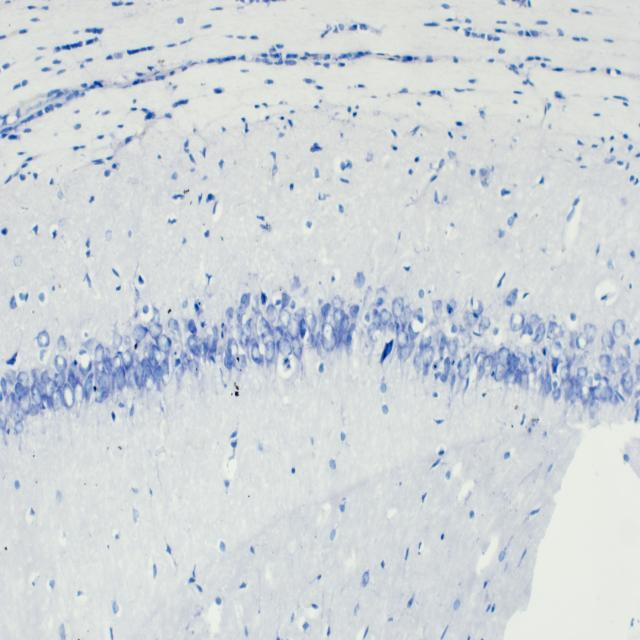neuron: (258, 317, 276, 349), (321, 322, 337, 352), (359, 327, 374, 358), (336, 314, 350, 347), (590, 376, 609, 399), (187, 333, 203, 358), (550, 336, 566, 360), (368, 319, 386, 340), (605, 368, 619, 395), (98, 367, 111, 396), (68, 360, 81, 388), (238, 320, 250, 350), (413, 350, 428, 373), (30, 385, 44, 409), (63, 382, 75, 410), (171, 340, 183, 368), (317, 336, 331, 360), (18, 390, 31, 415), (432, 300, 444, 327), (10, 400, 24, 423), (286, 318, 300, 341), (372, 287, 388, 307), (277, 337, 292, 358), (152, 365, 164, 391), (391, 295, 404, 319), (458, 354, 471, 378), (84, 371, 94, 402), (547, 321, 564, 339), (156, 334, 171, 354), (456, 328, 471, 348), (524, 366, 537, 389), (144, 364, 155, 391), (510, 311, 524, 332), (251, 342, 263, 366), (621, 369, 633, 393), (125, 366, 138, 388), (497, 346, 512, 365), (133, 323, 147, 343), (422, 346, 436, 366), (506, 352, 520, 372), (601, 329, 615, 349), (398, 343, 412, 362), (135, 362, 145, 388), (440, 357, 450, 383), (569, 383, 582, 403), (616, 344, 632, 360), (44, 377, 56, 398), (54, 355, 68, 373), (227, 336, 239, 357), (305, 313, 317, 334), (576, 367, 588, 388), (599, 354, 611, 375), (342, 329, 352, 354), (399, 307, 412, 326), (478, 316, 491, 335), (494, 363, 507, 382), (562, 379, 573, 401), (84, 336, 100, 351), (109, 355, 121, 375), (204, 327, 214, 351), (482, 356, 494, 376), (534, 322, 546, 342), (187, 358, 200, 376), (73, 382, 84, 403), (52, 388, 62, 411), (116, 368, 126, 391), (264, 340, 274, 363), (292, 337, 302, 360), (28, 398, 40, 417), (266, 303, 278, 322), (396, 329, 408, 348), (506, 288, 518, 307), (584, 323, 596, 342), (379, 309, 392, 326), (4, 392, 14, 414), (122, 350, 133, 370), (580, 384, 591, 404), (514, 348, 526, 366), (613, 319, 625, 337), (95, 387, 109, 402), (149, 324, 163, 339), (211, 325, 218, 355), (279, 309, 290, 328), (36, 382, 49, 398), (17, 371, 29, 388), (37, 330, 49, 347), (332, 294, 344, 311), (419, 334, 431, 351), (531, 353, 543, 370), (576, 332, 588, 349), (152, 342, 162, 362), (233, 354, 244, 372), (371, 310, 382, 328), (504, 370, 515, 388), (616, 358, 629, 373), (0, 377, 8, 401), (56, 335, 68, 351), (333, 308, 345, 324), (544, 371, 552, 395), (436, 329, 446, 348), (412, 306, 423, 323), (476, 352, 487, 369), (141, 357, 153, 372), (159, 356, 169, 374), (446, 340, 458, 355), (600, 387, 612, 402), (54, 372, 65, 388), (152, 304, 160, 326), (252, 294, 260, 316), (349, 303, 360, 319), (354, 272, 365, 288), (472, 299, 483, 315), (94, 343, 103, 362), (6, 369, 16, 386), (112, 332, 122, 349), (560, 365, 570, 382), (589, 401, 599, 418), (294, 307, 306, 321), (521, 370, 529, 391), (225, 306, 234, 324), (237, 306, 246, 324), (534, 376, 544, 392), (240, 292, 250, 307), (15, 382, 24, 398), (175, 366, 184, 382), (188, 319, 197, 335), (168, 317, 178, 331), (320, 304, 330, 318), (0, 412, 8, 429), (102, 347, 110, 364), (515, 368, 522, 387), (522, 324, 533, 336), (224, 354, 232, 370), (476, 366, 484, 382), (467, 312, 476, 326), (552, 388, 561, 402), (31, 368, 41, 380), (41, 371, 50, 384), (14, 421, 24, 432), (122, 335, 132, 346), (635, 362, 640, 383), (183, 351, 191, 364), (95, 370, 103, 382), (610, 395, 619, 405)
